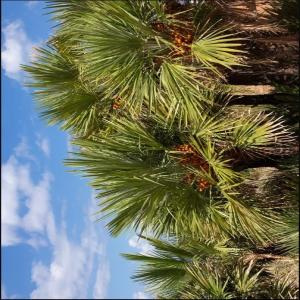palm tree: (19, 0, 299, 299)
